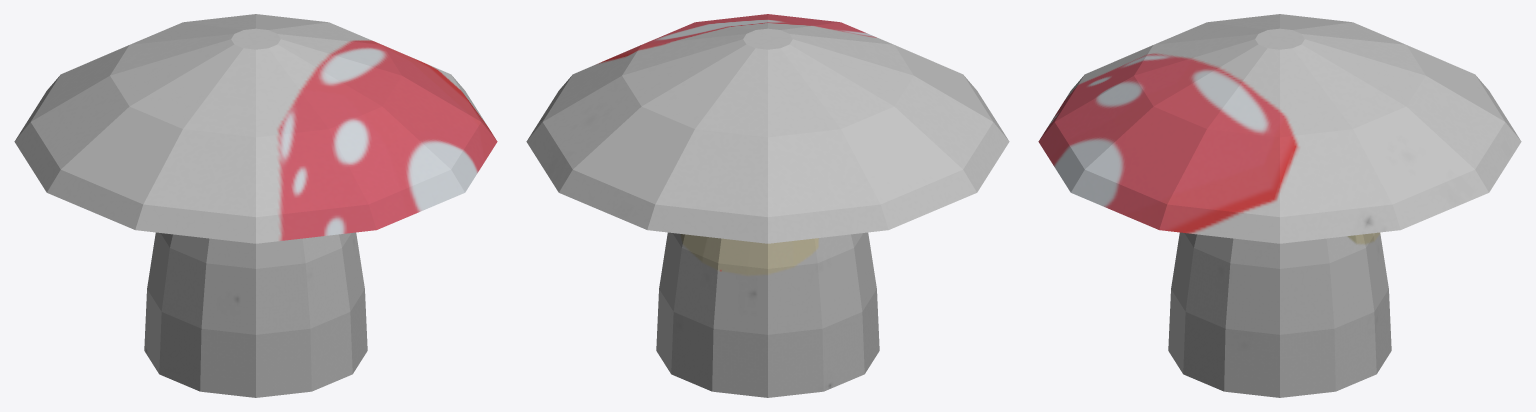
File: mushroom.fbx
3 renders of one model, left to right at view 1: azimuth 30°, elevation 25°; view 2: azimuth 150°, elevation 25°; view 3: azimuth 270°, elevation 25°, orthographic.
Parts seen in each view (by area): view 1: Mushroom; view 2: Mushroom; view 3: Mushroom.
Part boxes in pixels (x1,y1,x2,y2): Mushroom: (14, 14, 497, 397); Mushroom: (526, 14, 1009, 397); Mushroom: (1038, 14, 1521, 397).
Bounding box in the file's own units: 151 × 108 × 151.
